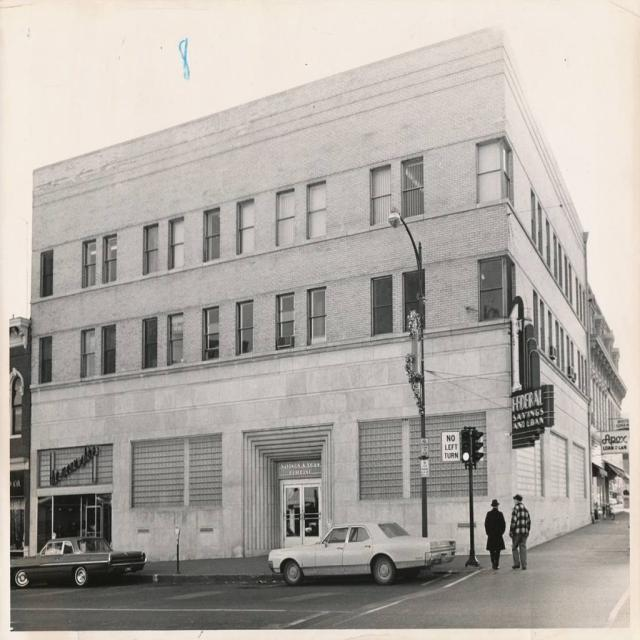car: (265, 515, 455, 583), (7, 529, 145, 589)
